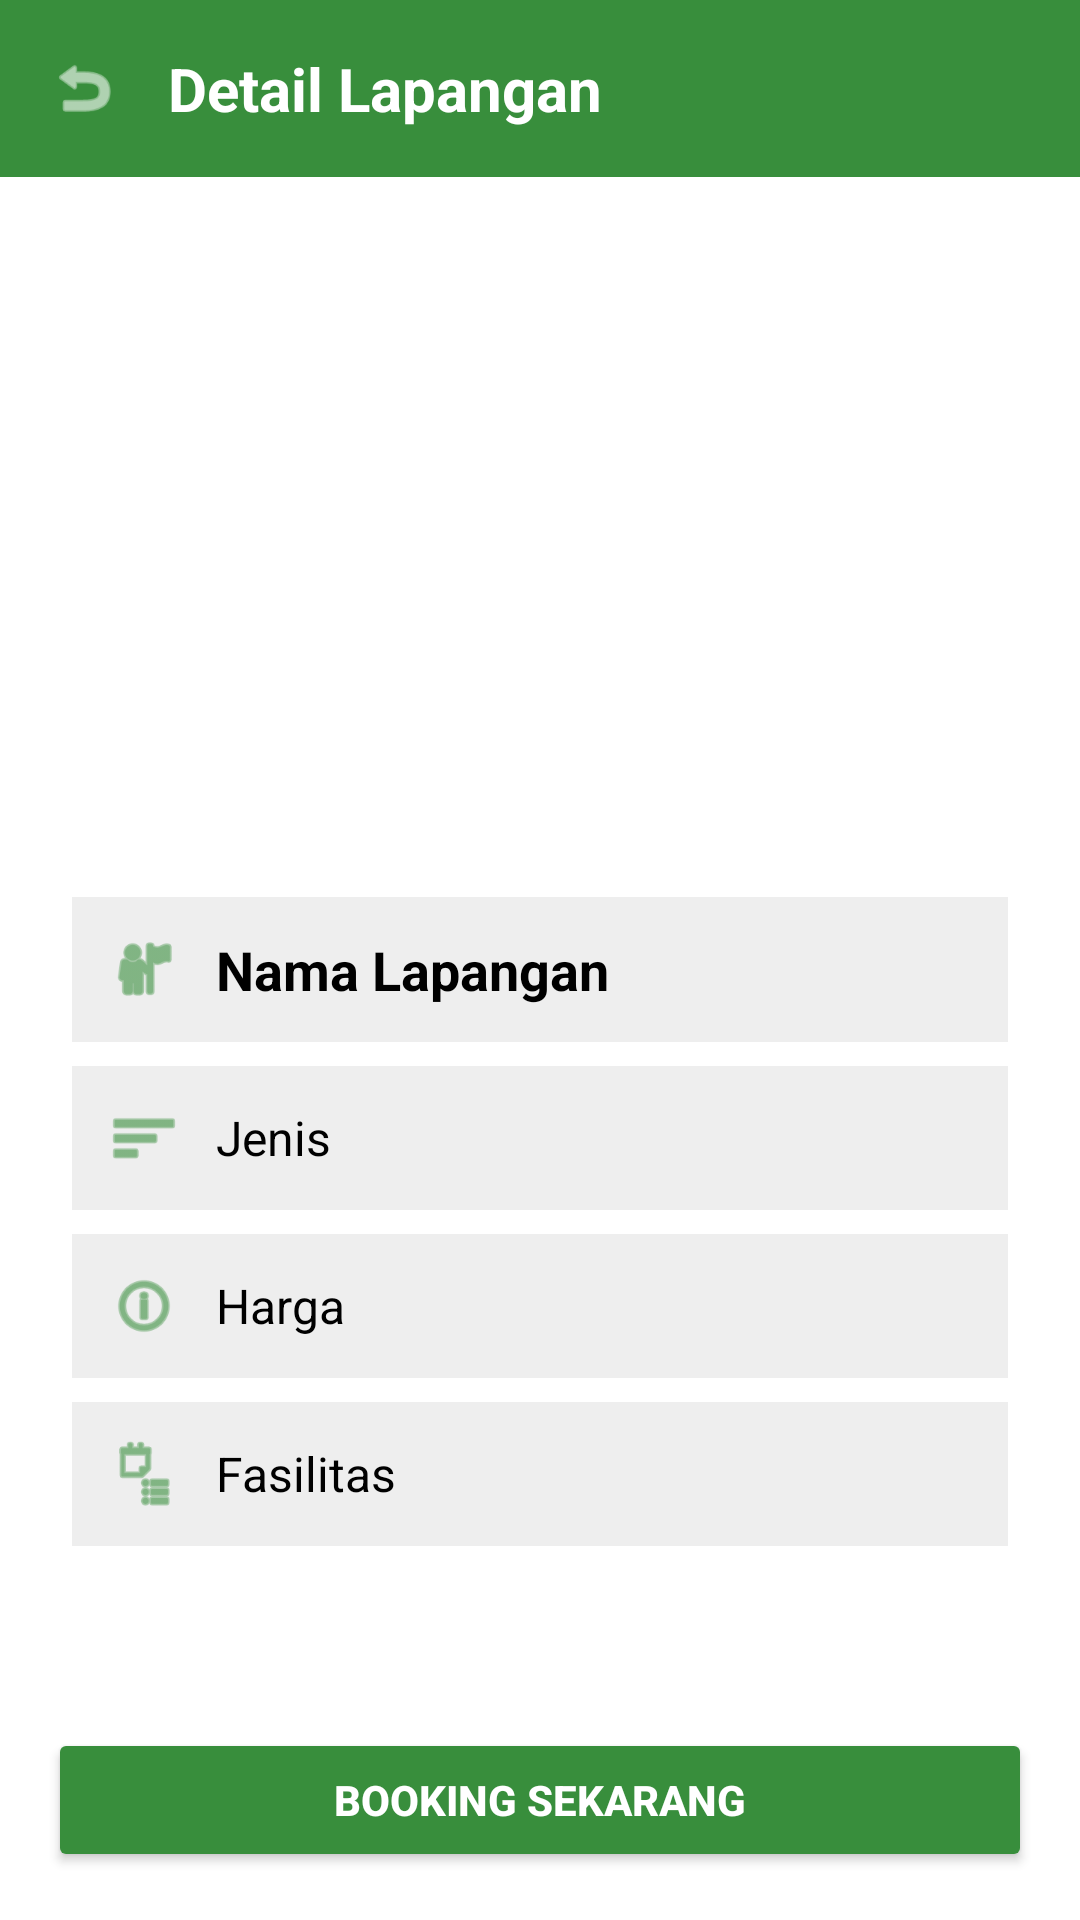

Locate icon controls on the screen. Image size 1080 × 1920, boxes as (x1, y1, x2, y2).
agenda: (119, 1442, 170, 1506)
Back: (59, 65, 111, 112)
info details: (118, 1280, 170, 1332)
myplaces: (118, 942, 172, 996)
sort by size: (113, 1118, 175, 1159)
